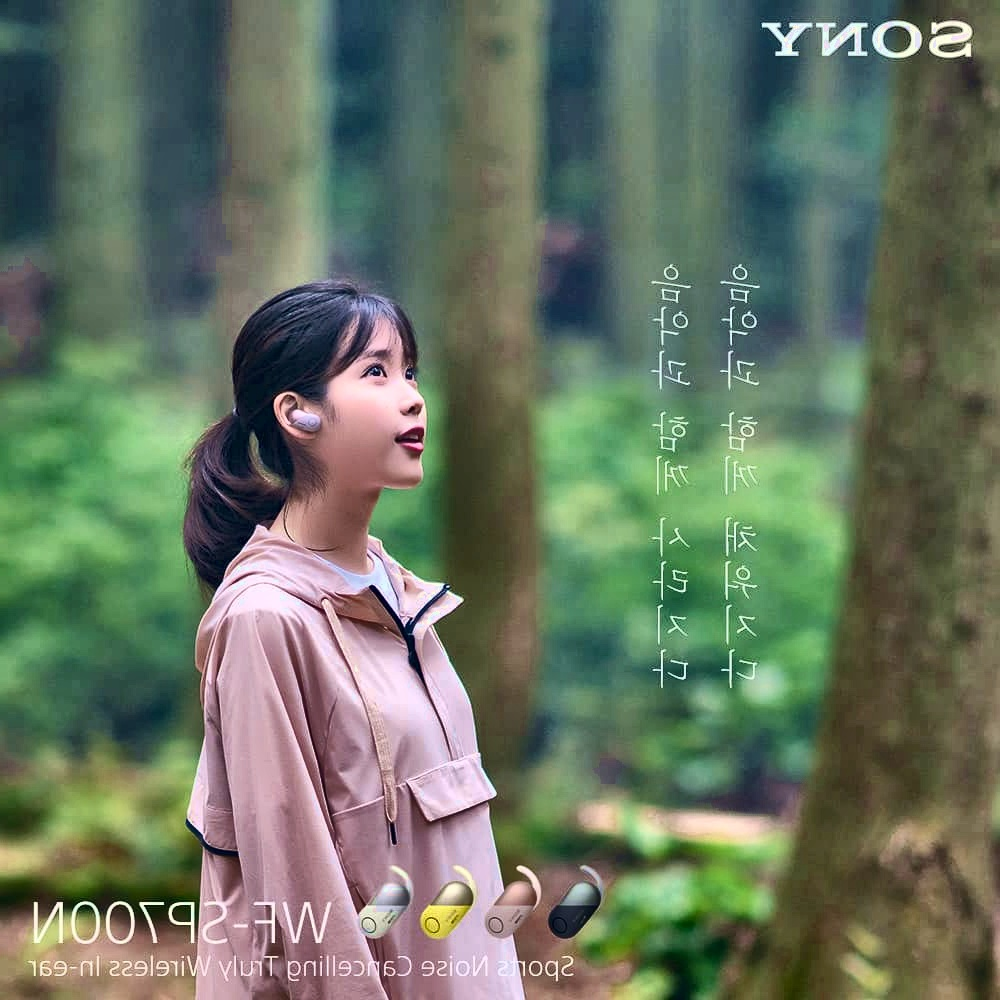earphone: (273, 391, 321, 440)
